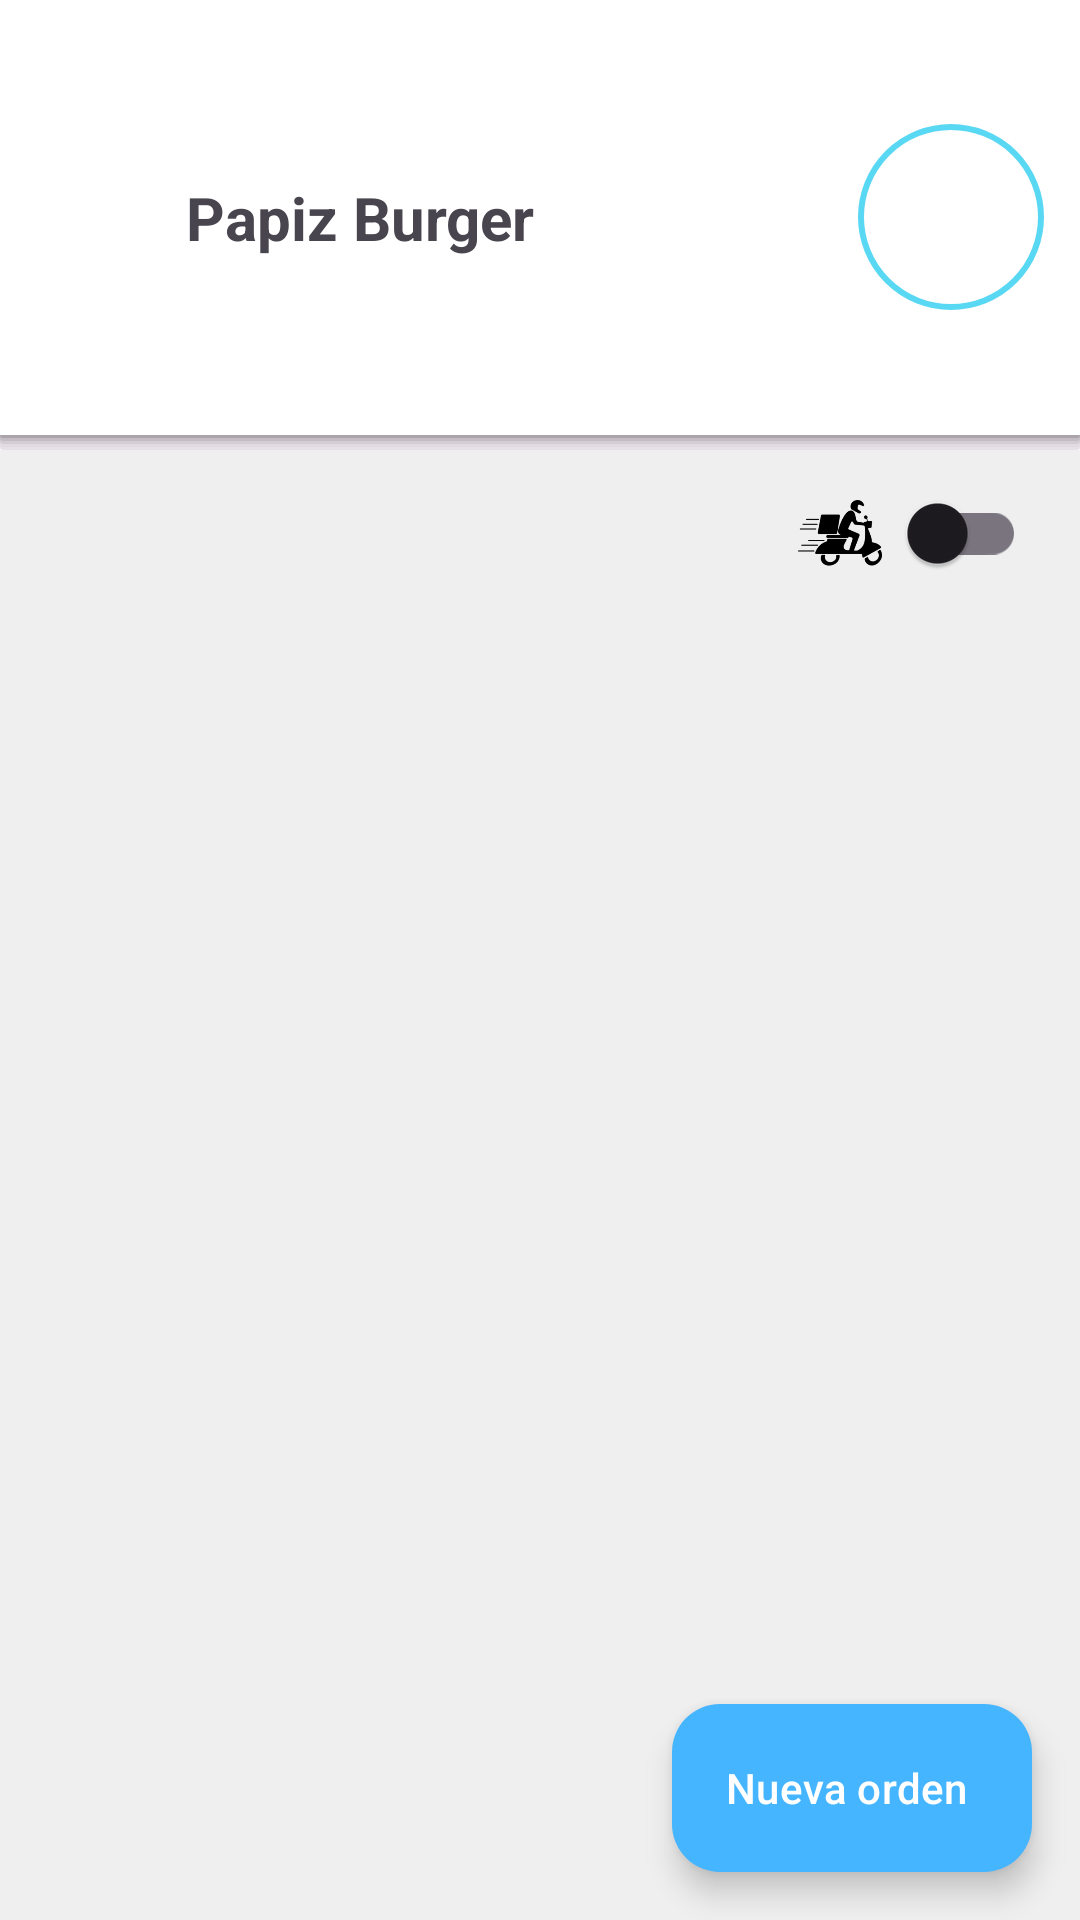

Screen size 1080px×1920px. Icon name, then its box in pixels as (x1, y1, x2, y2):
delivery: (798, 500, 882, 566)
